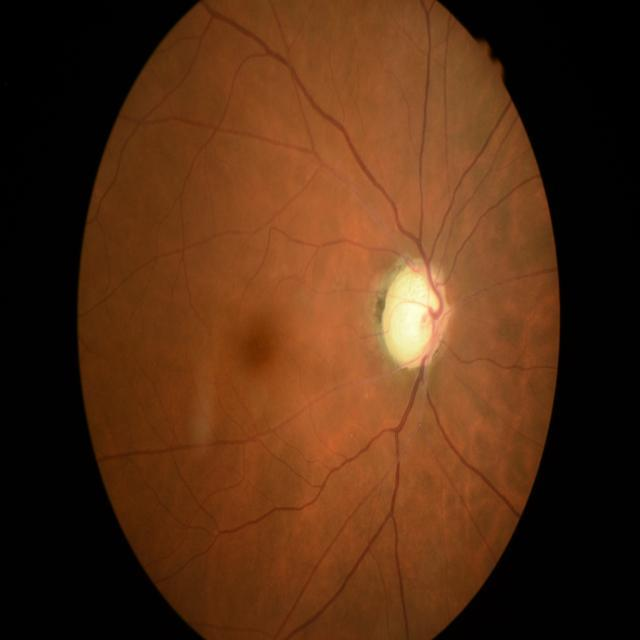cup: (390, 268, 444, 362)
disk: (382, 256, 451, 372)
